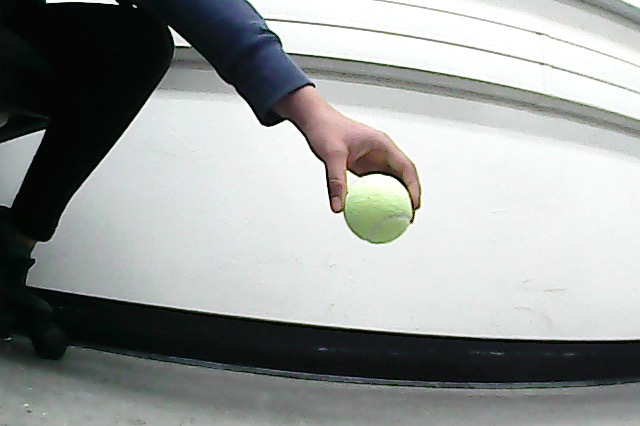ball: (340, 170, 416, 249)
